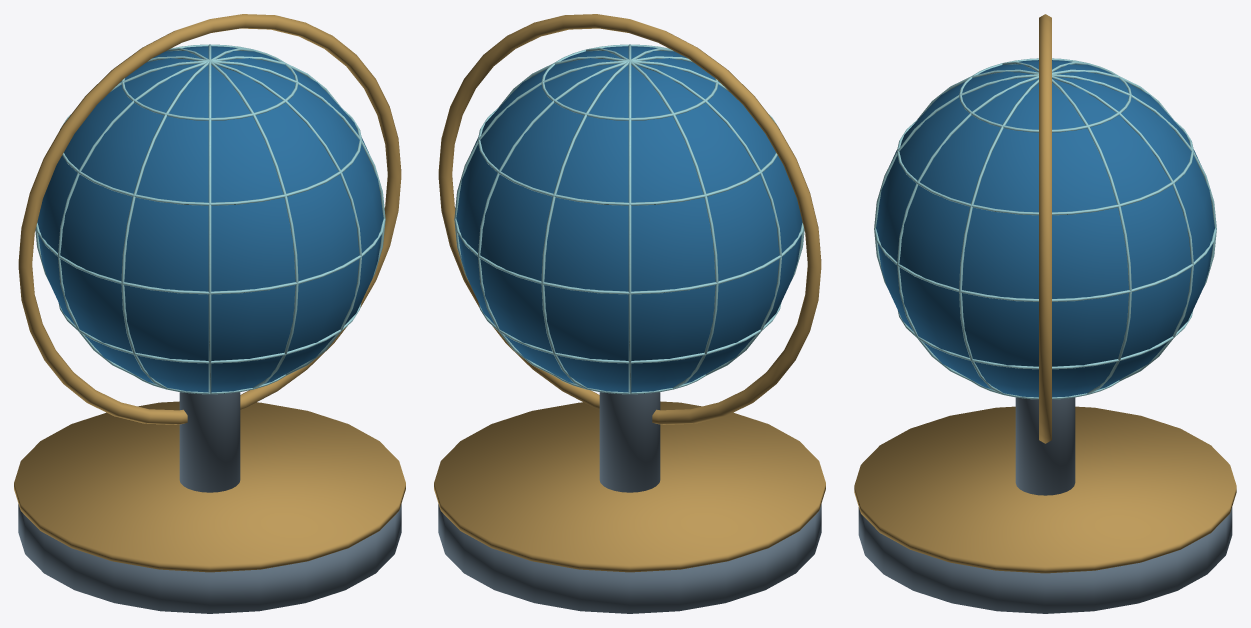
Rendered from earthsky-globe-v1-normal.glb.
3 views of the same model, side by side, from view 1: azimuth 30°, elevation 25°; view 2: azimuth 150°, elevation 25°; view 3: azimuth 270°, elevation 25° (orthographic). The views are drawn at different scales.
Visible parts, largest first — view 1: earth-ocean, brass-trim, weighted-base, meridian-frame, pedestal, longitude, longitude.004, longitude.001, longitude.003, latitude.002, longitude.002, latitude.003 (+3 smaller); view 2: earth-ocean, brass-trim, weighted-base, meridian-frame, pedestal, longitude, longitude.002, longitude.005, longitude.003, latitude.002, longitude.004, latitude.003 (+3 smaller); view 3: earth-ocean, brass-trim, weighted-base, meridian-frame, pedestal, longitude.003, longitude.002, longitude.004, latitude.003, latitude.002, longitude.001, longitude.005 (+2 smaller).
Part boxes in pixels (box(x1,y1,x2,y2)): earth-ocean: box(37, 46, 383, 392); brass-trim: box(14, 401, 405, 572); weighted-base: box(18, 504, 401, 613); meridian-frame: box(18, 14, 401, 424); pedestal: box(179, 392, 240, 492); longitude: box(58, 56, 341, 375); longitude.004: box(146, 56, 361, 375); longitude.001: box(121, 48, 253, 389); longitude.003: box(166, 48, 298, 389); latitude.002: box(36, 218, 385, 294); longitude.002: box(208, 44, 211, 393); latitude.003: box(60, 108, 362, 205); earth-ocean: box(456, 46, 802, 392); brass-trim: box(434, 401, 825, 572); weighted-base: box(438, 504, 821, 613); meridian-frame: box(438, 14, 821, 424); pedestal: box(599, 392, 660, 492); longitude: box(498, 56, 781, 375); longitude.002: box(478, 56, 693, 375); longitude.005: box(586, 48, 718, 389); longitude.003: box(541, 48, 673, 389); latitude.002: box(454, 218, 803, 294); longitude.004: box(628, 44, 631, 393); latitude.003: box(477, 108, 779, 205); earth-ocean: box(876, 60, 1214, 397); brass-trim: box(854, 406, 1236, 573); weighted-base: box(858, 507, 1232, 613); meridian-frame: box(1039, 14, 1051, 443); pedestal: box(1015, 397, 1075, 495); longitude.003: box(874, 74, 1216, 286); longitude.002: box(917, 69, 1193, 381); longitude.004: box(897, 69, 1173, 381); latitude.003: box(897, 120, 1193, 215); latitude.002: box(874, 228, 1216, 301); longitude.001: box(1002, 61, 1131, 394); longitude.005: box(959, 61, 1088, 394).
Size of the model in its own units: 0.508 by 0.6515 by 0.45.
